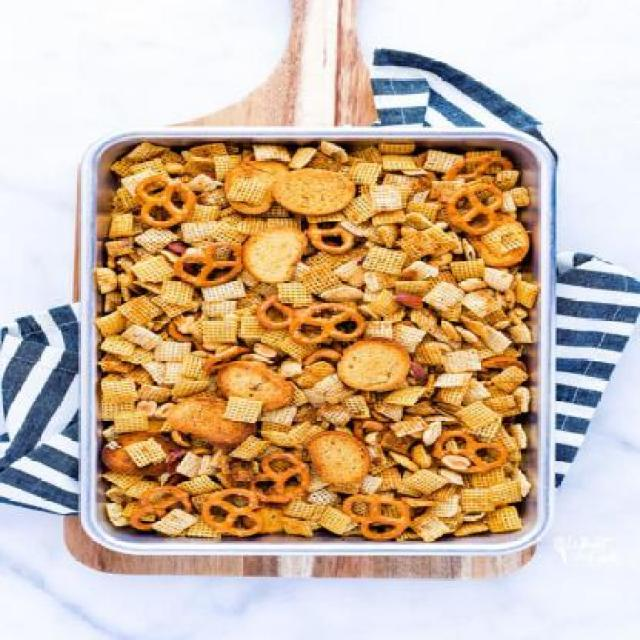Salatini packaged: (87, 142, 539, 540)
